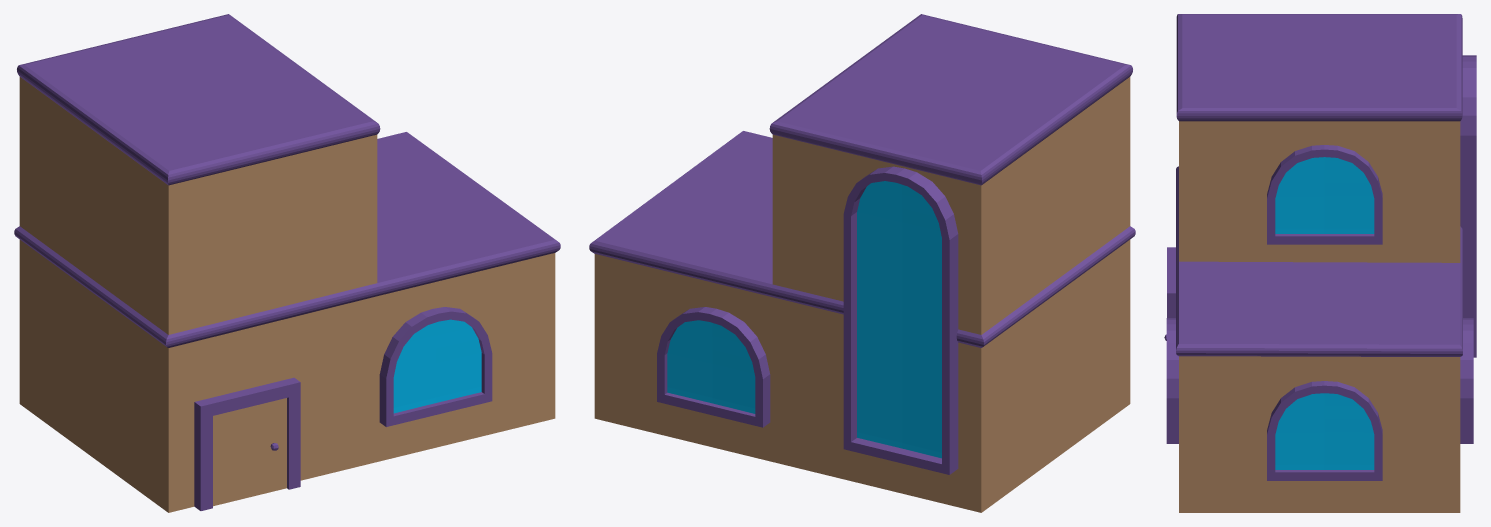
File: CajaCasa 1.2.fbx
3 renders of one model, left to right at view 1: azimuth 30°, elevation 25°; view 2: azimuth 150°, elevation 25°; view 3: azimuth 270°, elevation 25°, orthographic. The views are drawn at different scales.
Parts seen in each view (by area): view 1: Base 2.1; view 2: Base 2.1; view 3: Base 2.1.
Boxes of the visible parts, x1=… form: Base 2.1: x1=14, y1=14, x2=560, y2=512; Base 2.1: x1=589, y1=14, x2=1135, y2=512; Base 2.1: x1=1164, y1=14, x2=1476, y2=512.
Bounding box in the file's own units: 1342 × 1087 × 957.
